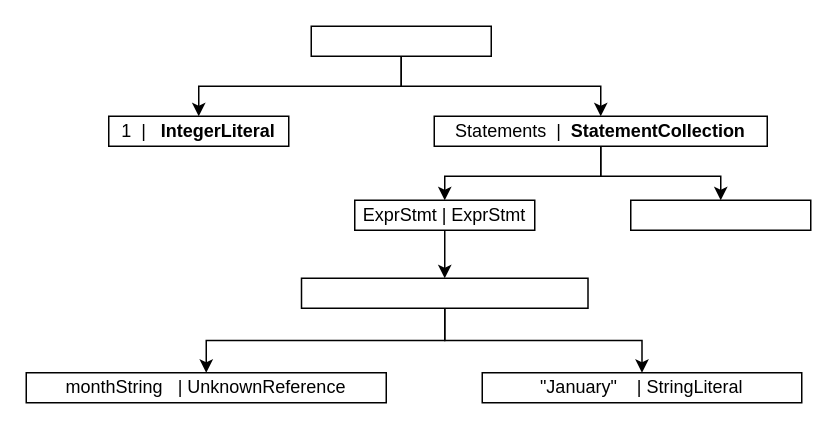
This 837x429 diagram has some shape labels left out. The box of each missing label's shape, as (x1, y1, x2, y2) in pixels:
AssginExpr | AssignExpr: (300, 277, 588, 308)
break | BreakStmt: (629, 199, 811, 230)
case | Case: (310, 25, 491, 56)
